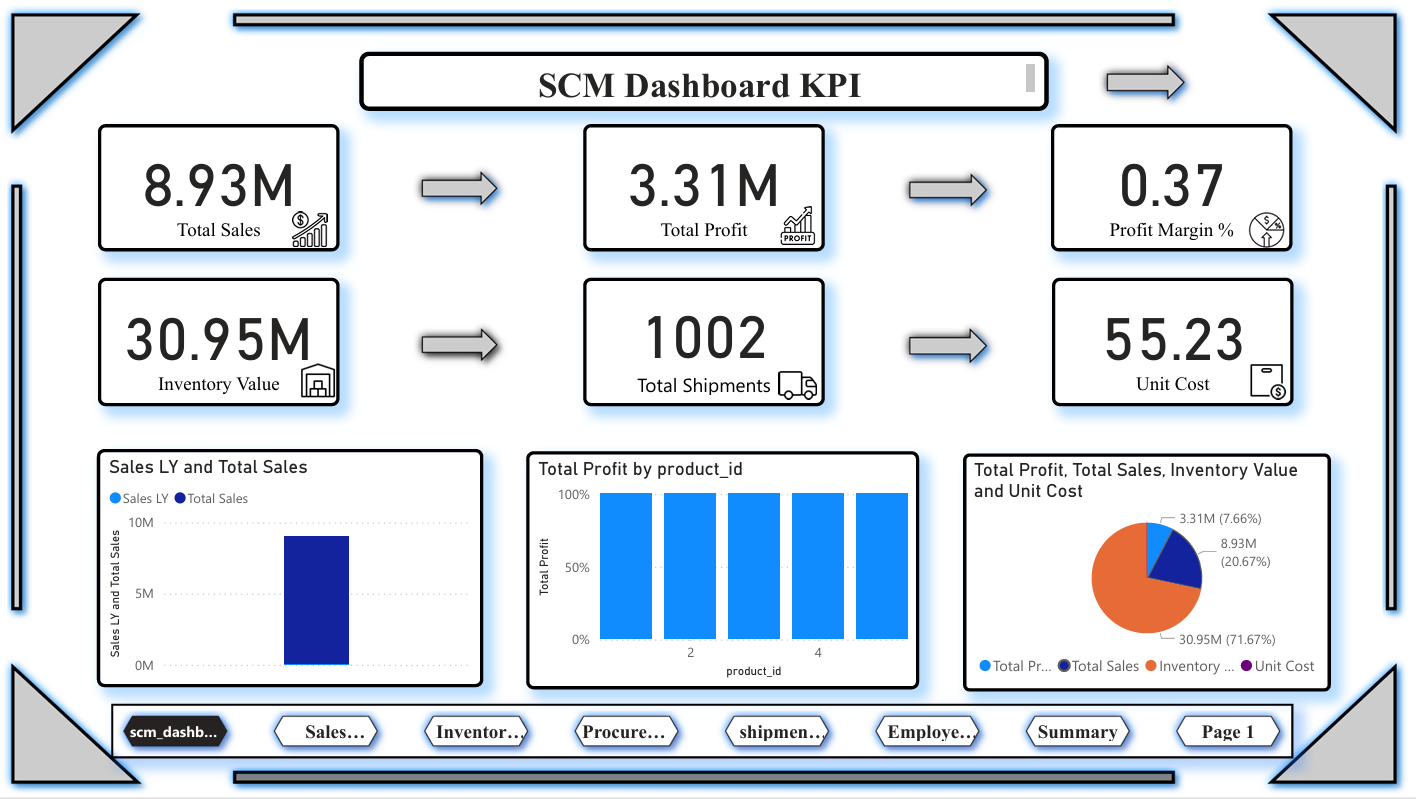

What the dashboard file says about the page in this screenshot:
{"tool":"powerbi","page":{"name":"scm_dashboard","canvas":[1280,720],"ordinal":0},"visuals":[{"type":"textbox","box":[326,44,628,54],"z":0},{"type":"shape","box":[374,144.1,87.4,48.6],"z":1000},{"type":"shape","box":[202,0,876,30],"z":2000},{"type":"shape","box":[1252,156,28,406],"z":3000},{"type":"shape","box":[202,690,876,30],"z":4000},{"type":"shape","box":[0,591.7,136.7,128.3],"z":5000},{"type":"shape","box":[1144,592,136,128],"z":6000},{"type":"shape","box":[1144,0,136,128],"z":7000},{"type":"shape","box":[0,0,136,128],"z":8000},{"type":"shape","box":[0,156,28,406],"z":9000},{"type":"card","fields":{"Values":["dim_customer.Total Sales"]},"box":[88,110,220,116],"z":10000},{"type":"card","fields":{"Values":["dim_customer.Total Profit"]},"box":[530,110,220,116],"z":11000},{"type":"card","fields":{"Values":["dim_customer.Profit Margin %"]},"box":[956,110,220,116],"z":12000},{"type":"card","fields":{"Values":["dim_customer.Inventory Value"]},"box":[88.3,250,220,116.7],"z":13000},{"type":"card","fields":{"Values":["dim_customer.Procurement Spend"]},"box":[530,250,220,116.7],"z":14000},{"type":"card","fields":{"Values":["dim_customer.Unit Cost"]},"box":[956.7,250,220,116.7],"z":15000},{"type":"shape","box":[374,286.6,87.4,48.6],"z":16000},{"type":"shape","box":[817.7,145.7,89.1,48.6],"z":17000},{"type":"lineStackedColumnComboChart","fields":{"Y":["dim_customer.Sales LY","dim_customer.Total Sales"]},"box":[87.4,406.4,351.4,217],"z":18000},{"type":"hundredPercentStackedColumnChart","fields":{"Category":["fact_procurement.product_id"],"Y":["dim_customer.Total Profit"]},"box":[477.7,408,357.8,217],"z":19000},{"type":"pieChart","fields":{"Y":["dim_customer.Total Profit","dim_customer.Total Sales","dim_customer.Inventory Value","dim_customer.Unit Cost"]},"box":[876,409.7,335.2,217],"z":20000},{"type":"pageNavigator","box":[100,638.3,1076.7,50],"z":21000},{"type":"shape","box":[818.3,286.7,88.3,50],"z":22000},{"type":"image","box":[252.6,184.6,55.1,42.1],"z":23000},{"type":"image","box":[699.5,179.7,50.2,45.3],"z":24000},{"type":"image","box":[1127,184.6,50.2,43.7],"z":25000},{"type":"image","box":[263.9,320.6,48.6,45.3],"z":26000},{"type":"image","box":[699.5,320.6,50.2,45.3],"z":27000},{"type":"image","box":[1127,320.6,50.2,45.3],"z":28000},{"type":"shape","box":[998.3,46.7,88.3,50],"z":28001}]}

Visuals, with their boxes in screenshot pixels (x1, y1, x2, y2), scaled from the page's 1280x720 canvas onto the 1416x799 screenshot:
textbox: select_region(361, 49, 1055, 109)
shape: select_region(414, 160, 510, 214)
shape: select_region(223, 0, 1193, 33)
shape: select_region(1385, 173, 1415, 624)
shape: select_region(223, 766, 1193, 798)
shape: select_region(0, 657, 151, 798)
shape: select_region(1266, 657, 1415, 798)
shape: select_region(1266, 0, 1415, 142)
shape: select_region(0, 0, 150, 142)
shape: select_region(0, 173, 31, 624)
card - dim_customer.Total Sales: select_region(97, 122, 341, 251)
card - dim_customer.Total Profit: select_region(586, 122, 830, 251)
card - dim_customer.Profit Margin %: select_region(1058, 122, 1301, 251)
card - dim_customer.Inventory Value: select_region(98, 277, 341, 407)
card - dim_customer.Procurement Spend: select_region(586, 277, 830, 407)
card - dim_customer.Unit Cost: select_region(1058, 277, 1302, 407)
shape: select_region(414, 318, 510, 372)
shape: select_region(905, 162, 1003, 216)
lineStackedColumnComboChart - dim_customer.Sales LY x dim_customer.Total Sales: select_region(97, 451, 485, 692)
hundredPercentStackedColumnChart - fact_procurement.product_id x dim_customer.Total Profit: select_region(528, 453, 924, 694)
pieChart - dim_customer.Total Profit x dim_customer.Total Sales: select_region(969, 455, 1340, 695)
pageNavigator: select_region(111, 708, 1302, 764)
shape: select_region(905, 318, 1003, 374)
image: select_region(279, 205, 340, 252)
image: select_region(774, 199, 829, 250)
image: select_region(1247, 205, 1302, 253)
image: select_region(292, 356, 346, 406)
image: select_region(774, 356, 829, 406)
image: select_region(1247, 356, 1302, 406)
shape: select_region(1104, 52, 1202, 107)
